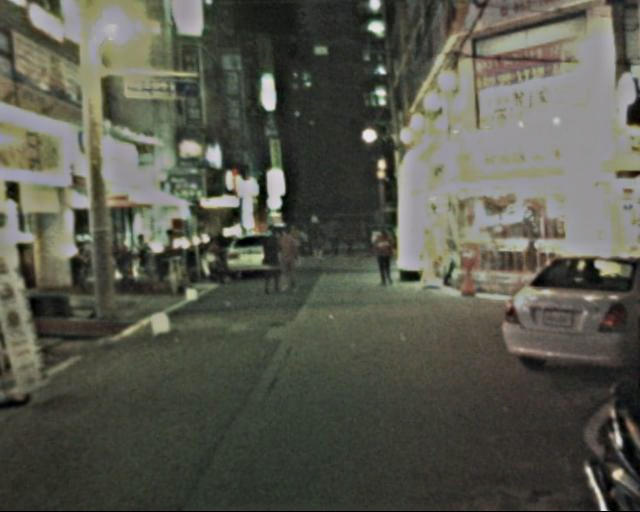person: (257, 226, 288, 296), (268, 223, 296, 294), (370, 224, 398, 286), (303, 213, 323, 262), (342, 225, 370, 257), (323, 215, 341, 258)
